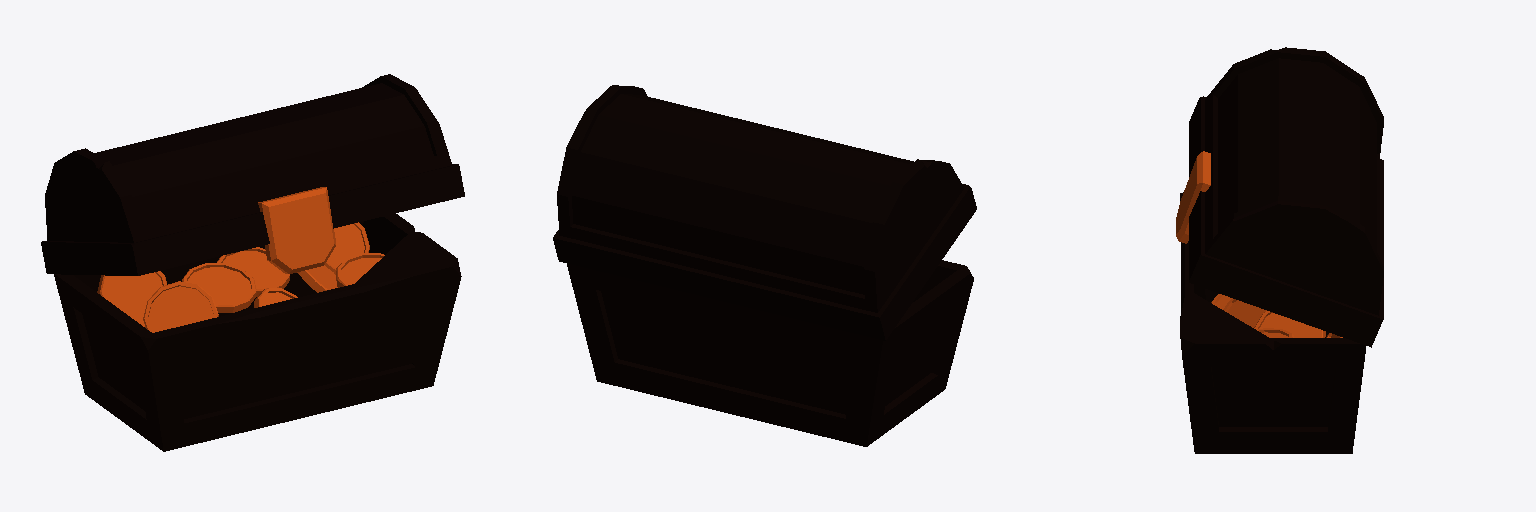
File: treasure.obj
3 views of the same model, side by side, from view 1: azimuth 30°, elevation 25°; view 2: azimuth 150°, elevation 25°; view 3: azimuth 270°, elevation 25° (orthographic).
Visible parts, largest first — view 1: Plane.001, Plane, Plane.002, Circle.002, Circle.003, Circle.007, Circle.004, Circle.008, Circle.009, Circle.001; view 2: Plane, Plane.001; view 3: Plane, Plane.001, Plane.002, Circle.001, Circle.
Part boxes in pixels (x1,y1,x2,y2): Plane.001: (54, 213, 461, 451); Plane: (41, 74, 464, 275); Plane.002: (258, 187, 335, 273); Circle.002: (143, 281, 218, 332); Circle.003: (182, 263, 256, 312); Circle.007: (97, 271, 166, 327); Circle.004: (217, 247, 289, 296); Circle.008: (327, 222, 369, 268); Circle.009: (336, 253, 384, 287); Circle.001: (297, 262, 337, 292); Plane: (553, 85, 976, 340); Plane.001: (567, 260, 973, 446); Plane: (1189, 47, 1383, 347); Plane.001: (1180, 192, 1365, 453); Plane.002: (1176, 151, 1210, 243); Circle.001: (1254, 311, 1325, 337); Circle: (1223, 298, 1266, 327).
Size of the model in its own units: 2.05 by 1.58 by 1.13.